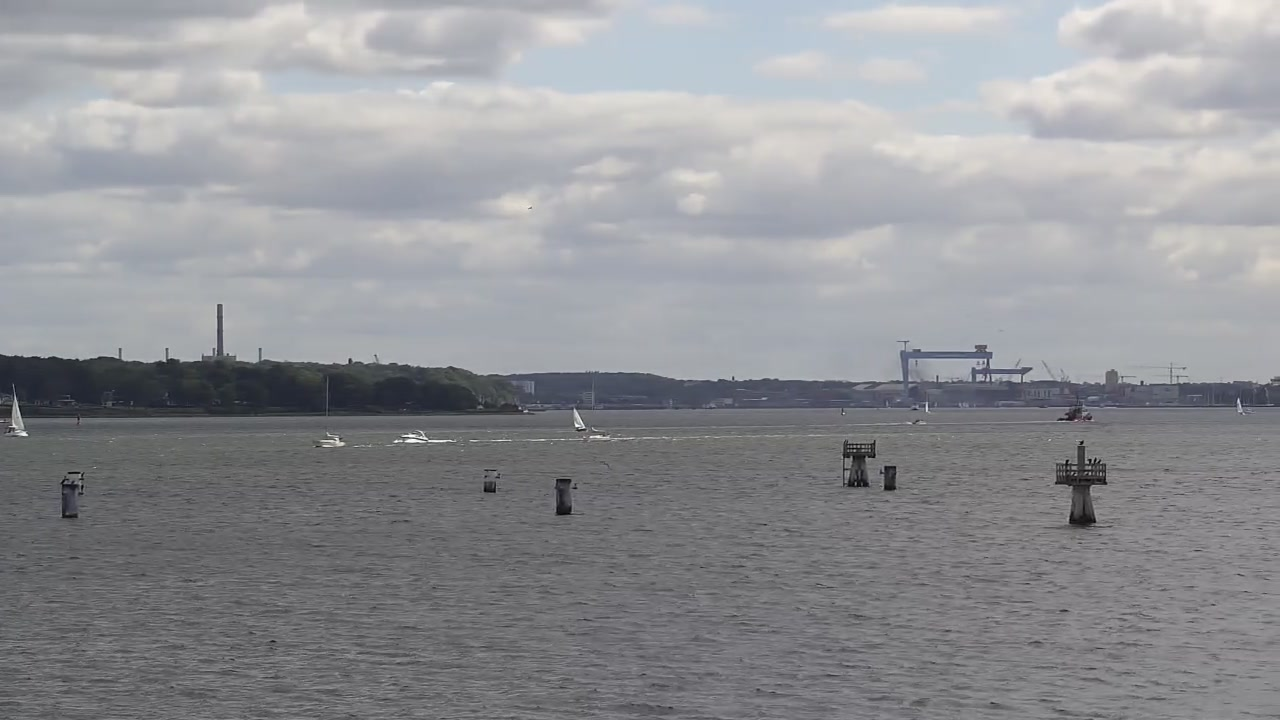sea: (310, 372, 345, 447), (3, 382, 29, 438), (1055, 398, 1094, 423), (392, 429, 430, 445), (570, 406, 587, 432), (582, 424, 610, 439), (1233, 396, 1244, 415), (911, 418, 928, 426), (924, 400, 931, 414), (909, 404, 920, 412)
